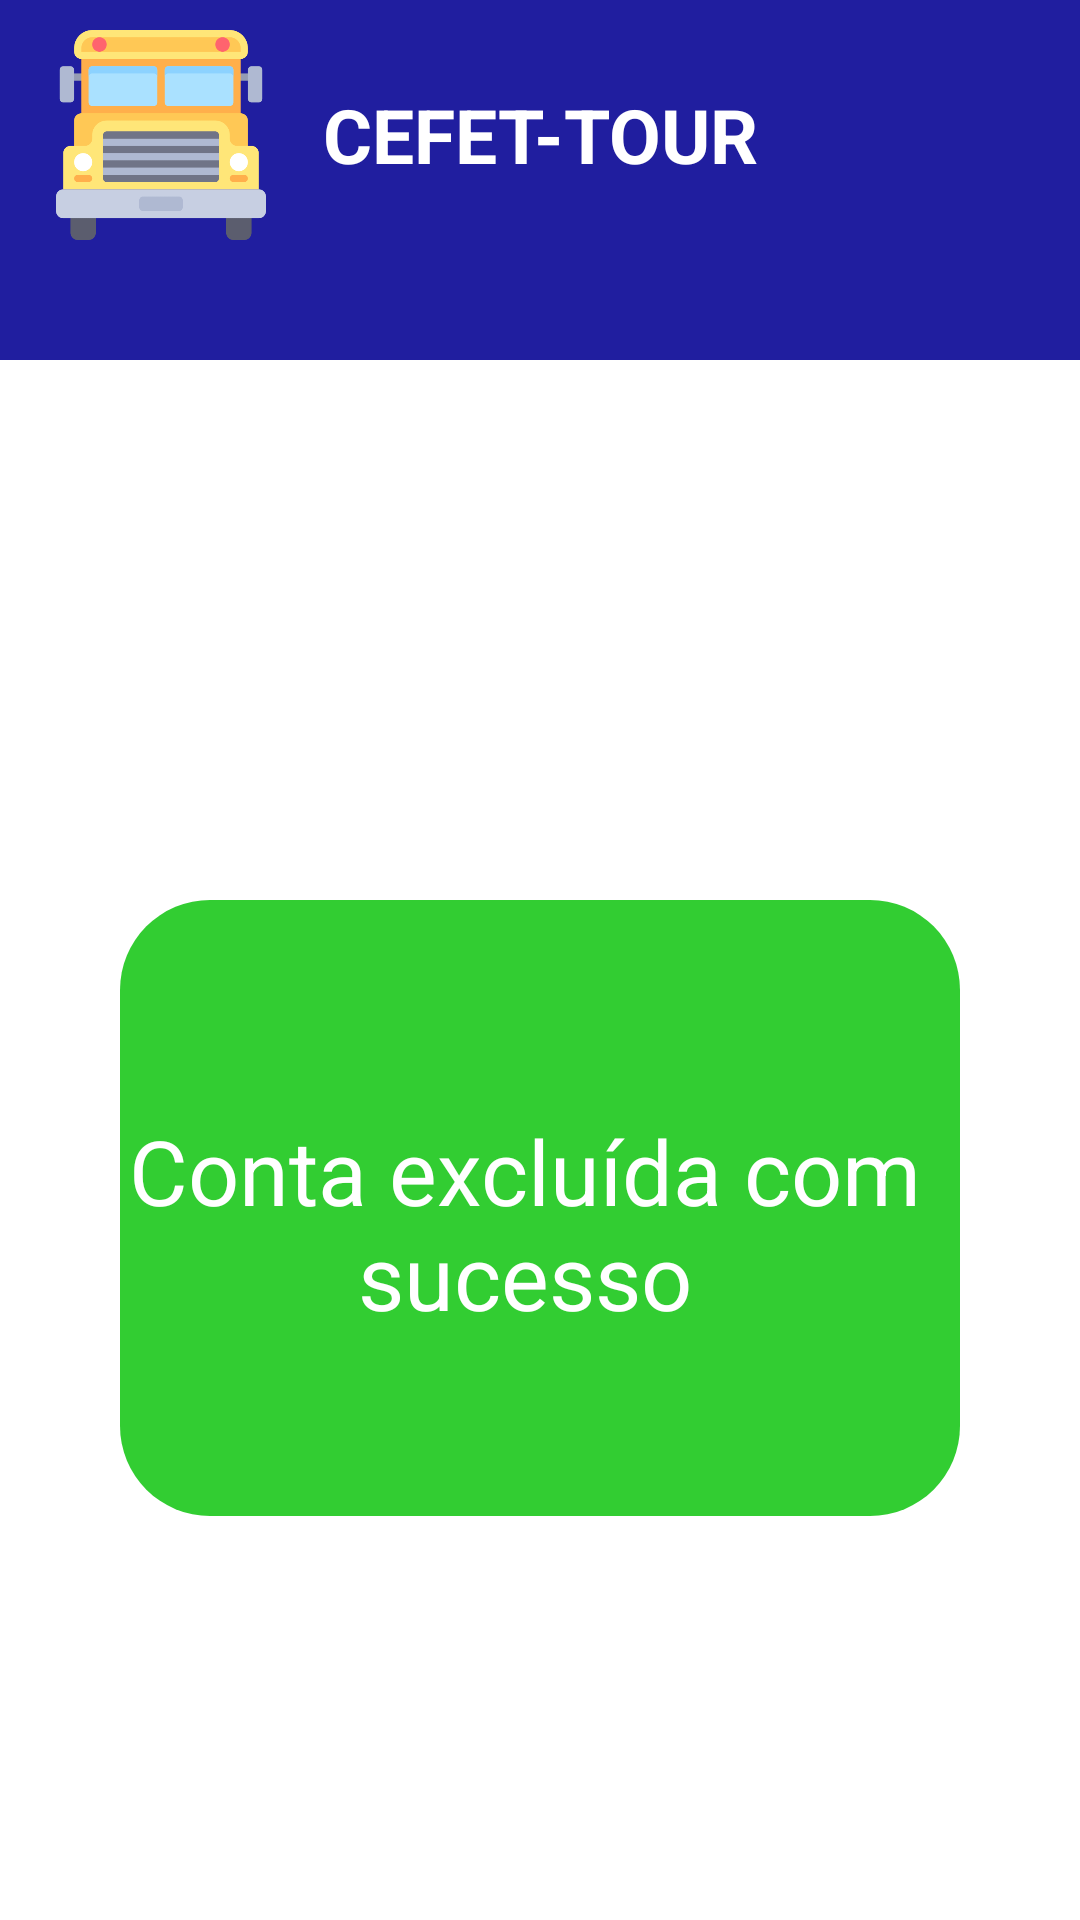

Named icons in this screenshot (1080x1920) and their bounding boxes, box=[x1, y1, x2, y2]:
schoolbus: box=[56, 30, 266, 240]
